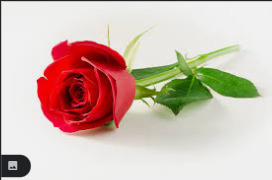RedRose: (22, 36, 136, 134)
